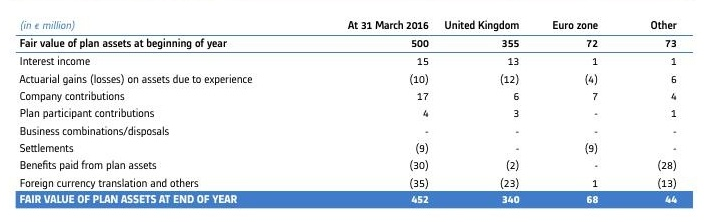table: (0, 0, 705, 222)
